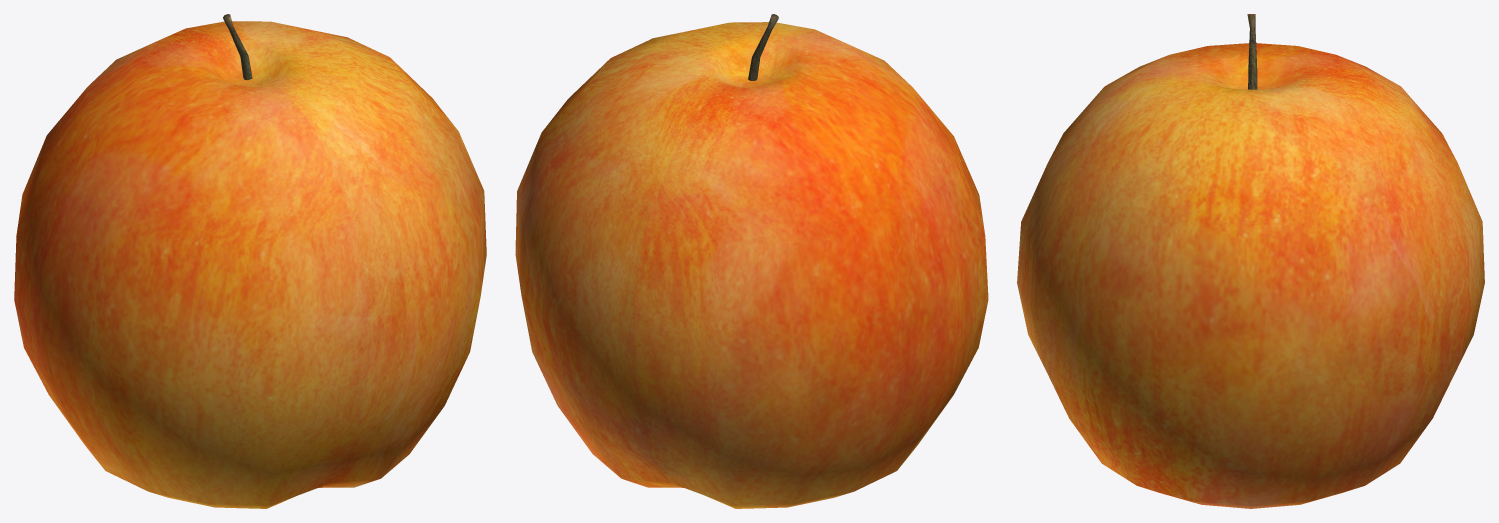
File: Apple.dae
The picture shows the model from 3 angles, left to right: view 1: azimuth 30°, elevation 25°; view 2: azimuth 150°, elevation 25°; view 3: azimuth 270°, elevation 25°; orthographic projection. The views are drawn at different scales.
Parts seen in each view (by area): view 1: Circle; view 2: Circle; view 3: Circle.
Part boxes in pixels (x1=…): Circle: x1=14, y1=14, x2=486, y2=508; Circle: x1=515, y1=14, x2=988, y2=508; Circle: x1=1017, y1=14, x2=1484, y2=508.
Bounding box in the file's own units: 0.5259 × 0.5313 × 0.5484.
